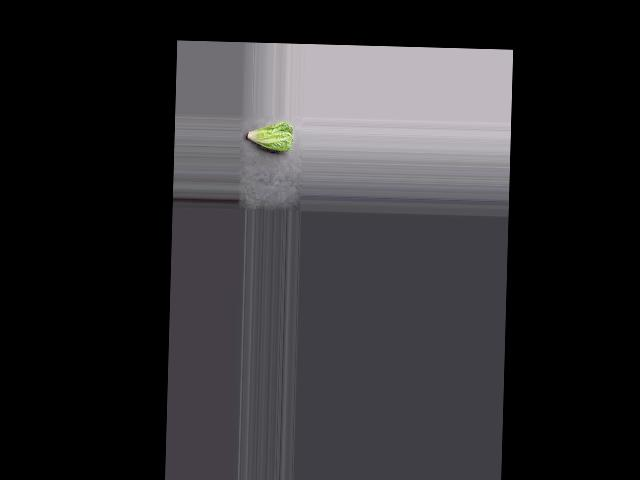lettuce: (243, 119, 293, 153)
